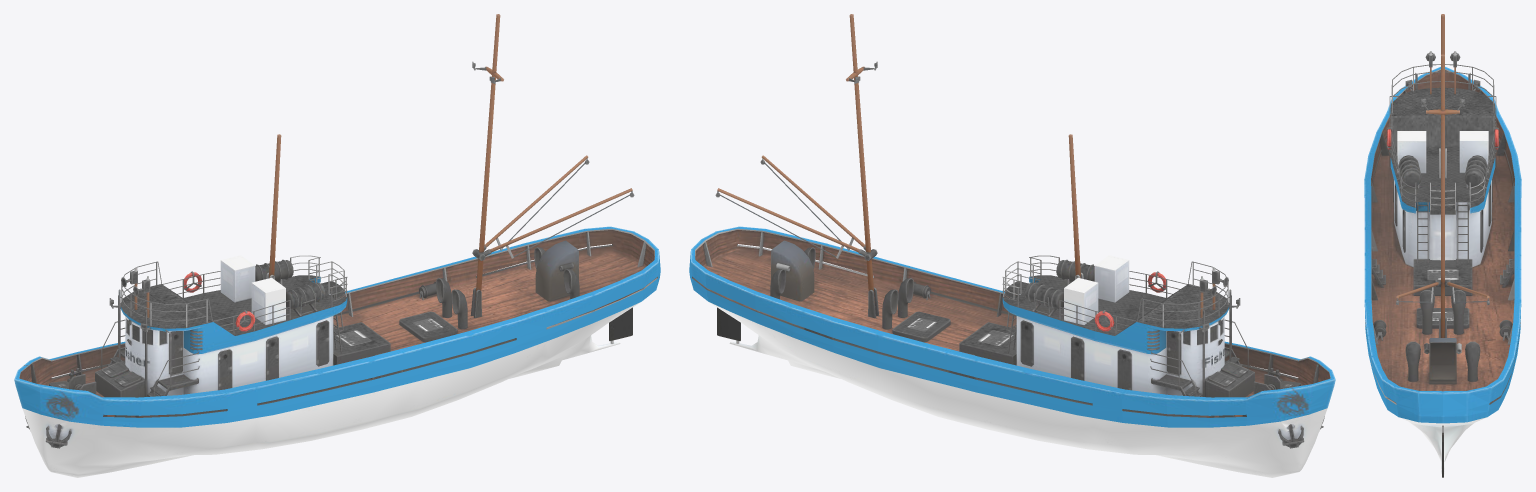
Rendered from fishingboat.glb.
The picture shows the model from 3 angles, left to right: view 1: azimuth 30°, elevation 25°; view 2: azimuth 150°, elevation 25°; view 3: azimuth 270°, elevation 25°; orthographic projection.
Visible parts, largest first — view 1: Boat; view 2: Boat; view 3: Boat.
Boxes of the visible parts, left/top/right/bottom form: Boat: left=14, top=14, right=660, bottom=477; Boat: left=689, top=14, right=1335, bottom=477; Boat: left=1364, top=14, right=1521, bottom=477.
Size of the model in its own units: 1137 by 623 by 241.
Materials: 1 (1 with a texture image).
